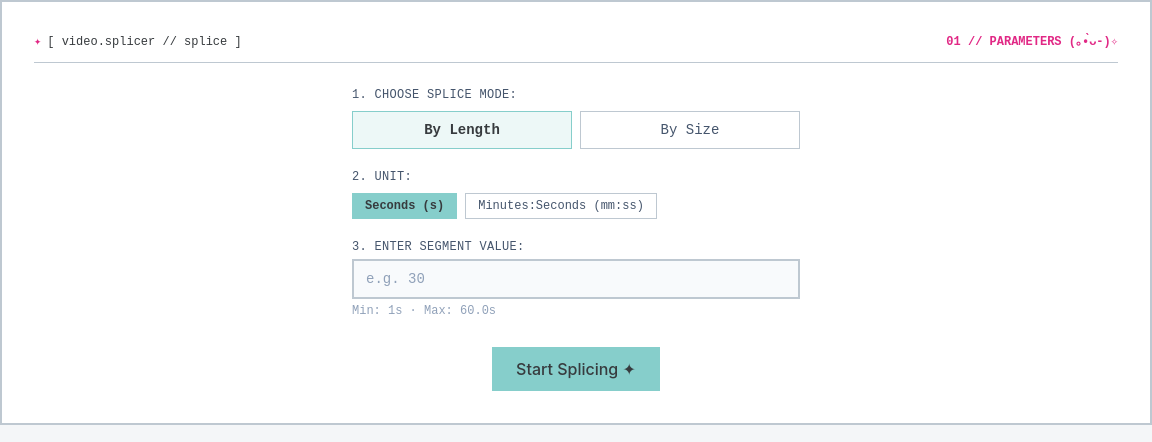
SplicePanel › mode and value form validation › switches to BySize mode and shows size units with bounds
What coordinates should you click on to do the following:
click the radio button with test id "mode-by-size"
I would click on:
 (690, 130)
Its box is [580,111,800,149].
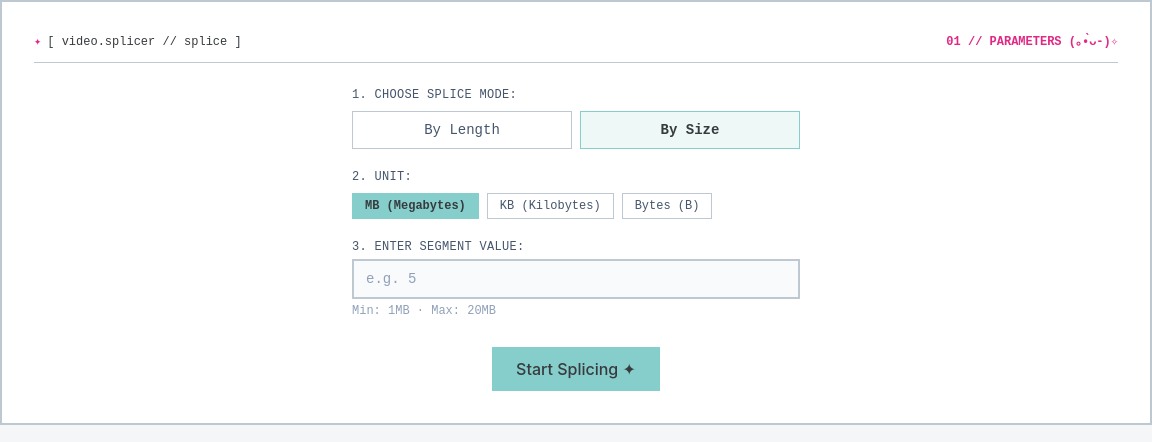
Now the button with test id "unit-mb" is shown, box [352,193,479,219]
Now the button with test id "unit-kb" is shown, box [487,193,614,219]
Now the button with test id "unit-b" is shown, box [622,193,712,219]
